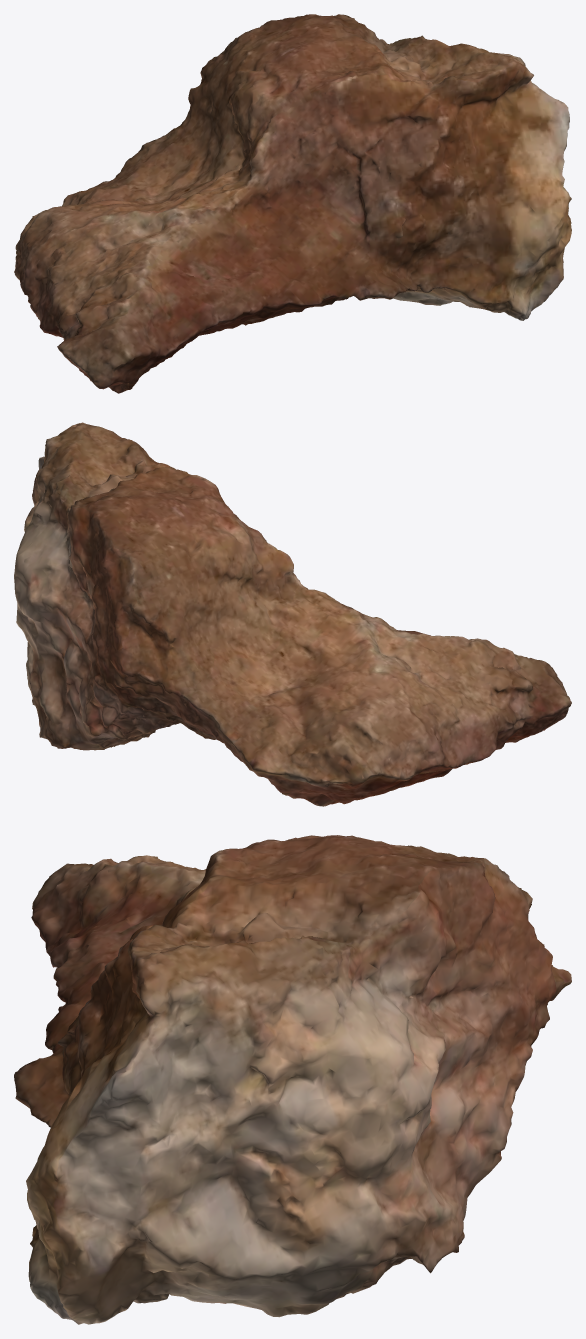
The model's file is stone_01.glb.
3 renders of one model, top to bottom at view 1: azimuth 30°, elevation 25°; view 2: azimuth 150°, elevation 25°; view 3: azimuth 270°, elevation 25°, orthographic. The views are drawn at different scales.
Visible parts, largest first — view 1: stone_01; view 2: stone_01; view 3: stone_01.
Part boxes in pixels (x1,y1,x2,y2): stone_01: (14, 14, 571, 393); stone_01: (14, 422, 571, 806); stone_01: (14, 835, 571, 1324).
Bounding box in the file's own units: 0.1469 × 0.0718 × 0.0891.
1 material, 1 textured.
